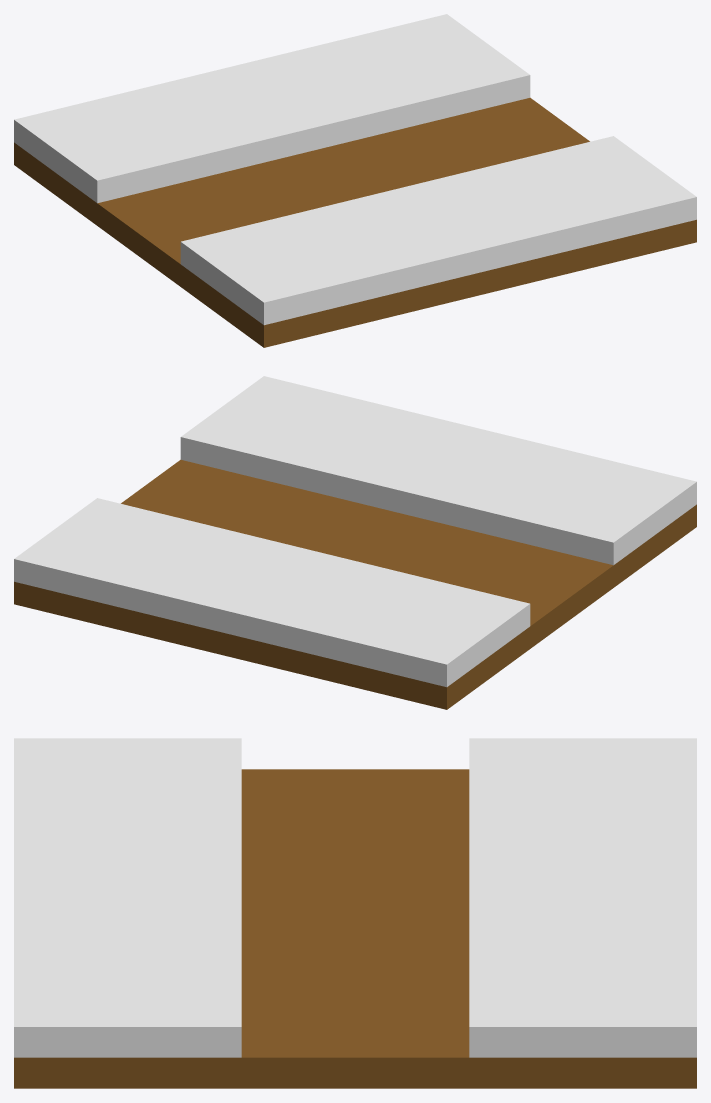
File: WinterStraight.fbx
3 renders of one model, top to bottom at view 1: azimuth 30°, elevation 25°; view 2: azimuth 150°, elevation 25°; view 3: azimuth 270°, elevation 25°, orthographic. The views are drawn at different scales.
Visible parts, largest first — view 1: WinterStraight; view 2: WinterStraight; view 3: WinterStraight.
Boxes of the visible parts, box(x1,y1,x2,y2) form: WinterStraight: box(14, 14, 696, 347); WinterStraight: box(14, 376, 696, 709); WinterStraight: box(14, 738, 696, 1088).
Bounding box in the file's own units: 1 × 0.1 × 1.
